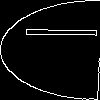I: (25, 25, 100, 40)
